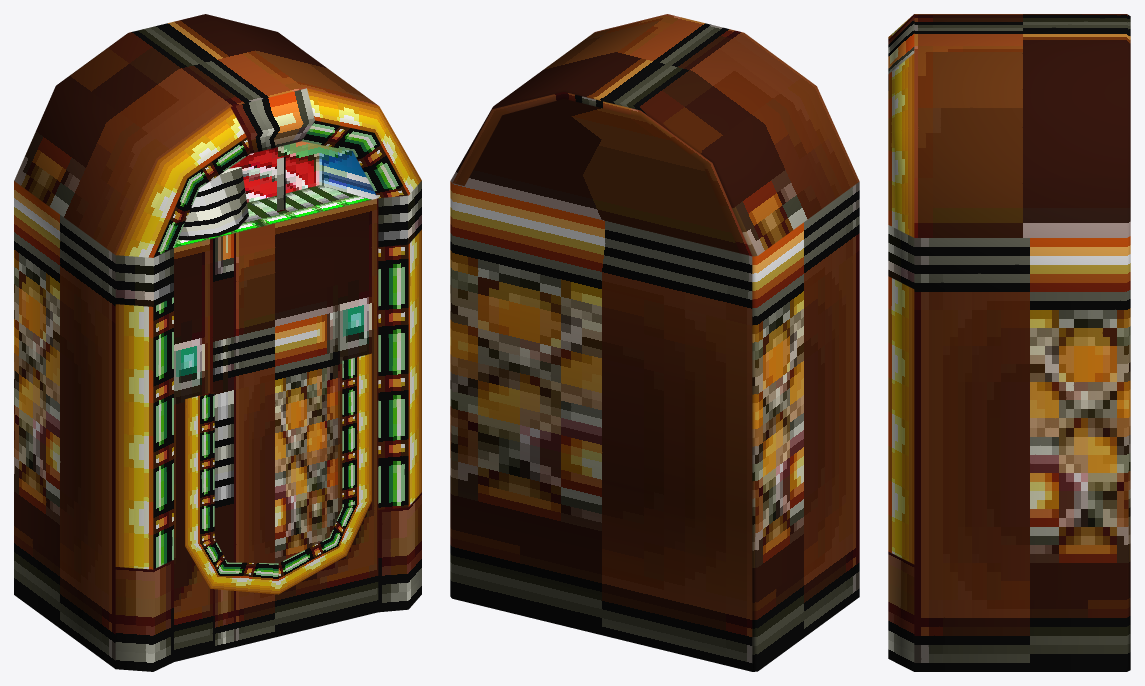
The model's file is int_msc_jukebox.dae.
3 views of the same model, side by side, from view 1: azimuth 30°, elevation 25°; view 2: azimuth 150°, elevation 25°; view 3: azimuth 270°, elevation 25° (orthographic). The views are drawn at different scales.
Visible parts, largest first — view 1: int_msc_jukebox; view 2: int_msc_jukebox; view 3: int_msc_jukebox.
Part boxes in pixels (box(x1,y1,x2,y2)): int_msc_jukebox: box(14, 14, 421, 671); int_msc_jukebox: box(450, 14, 859, 671); int_msc_jukebox: box(888, 14, 1130, 671).
Bounding box in the file's own units: 23.04 × 38.4 × 15.04.
3 materials, 3 textured.
